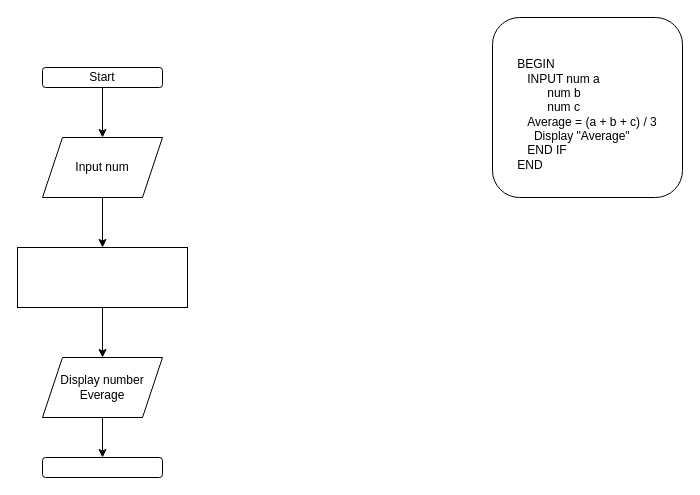
Some shapes in this 700 by 495 pixel diagram are drawn without their labels. The shapes that lost their labels are listed below. From the top down, each one's centre as x and y in pixels, then its label:
At pixel 102 277: "r = Average = (a + b + c) / 3".
At pixel 102 467: "Stop".
